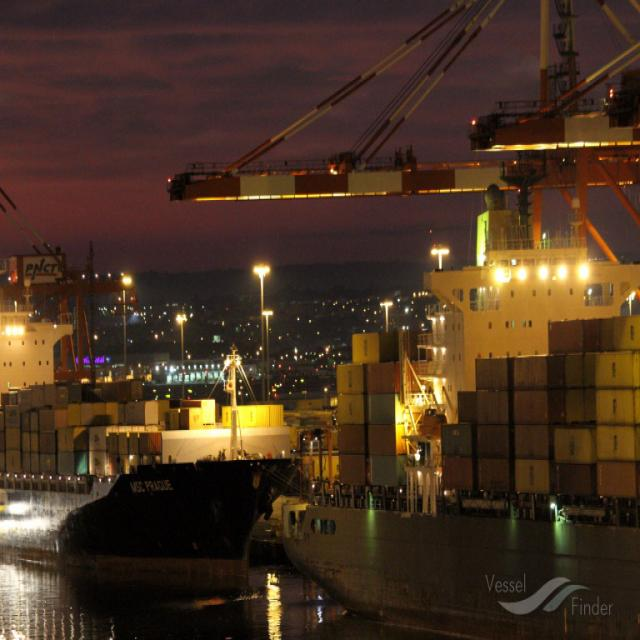Container Ship: (0, 281, 292, 587)
